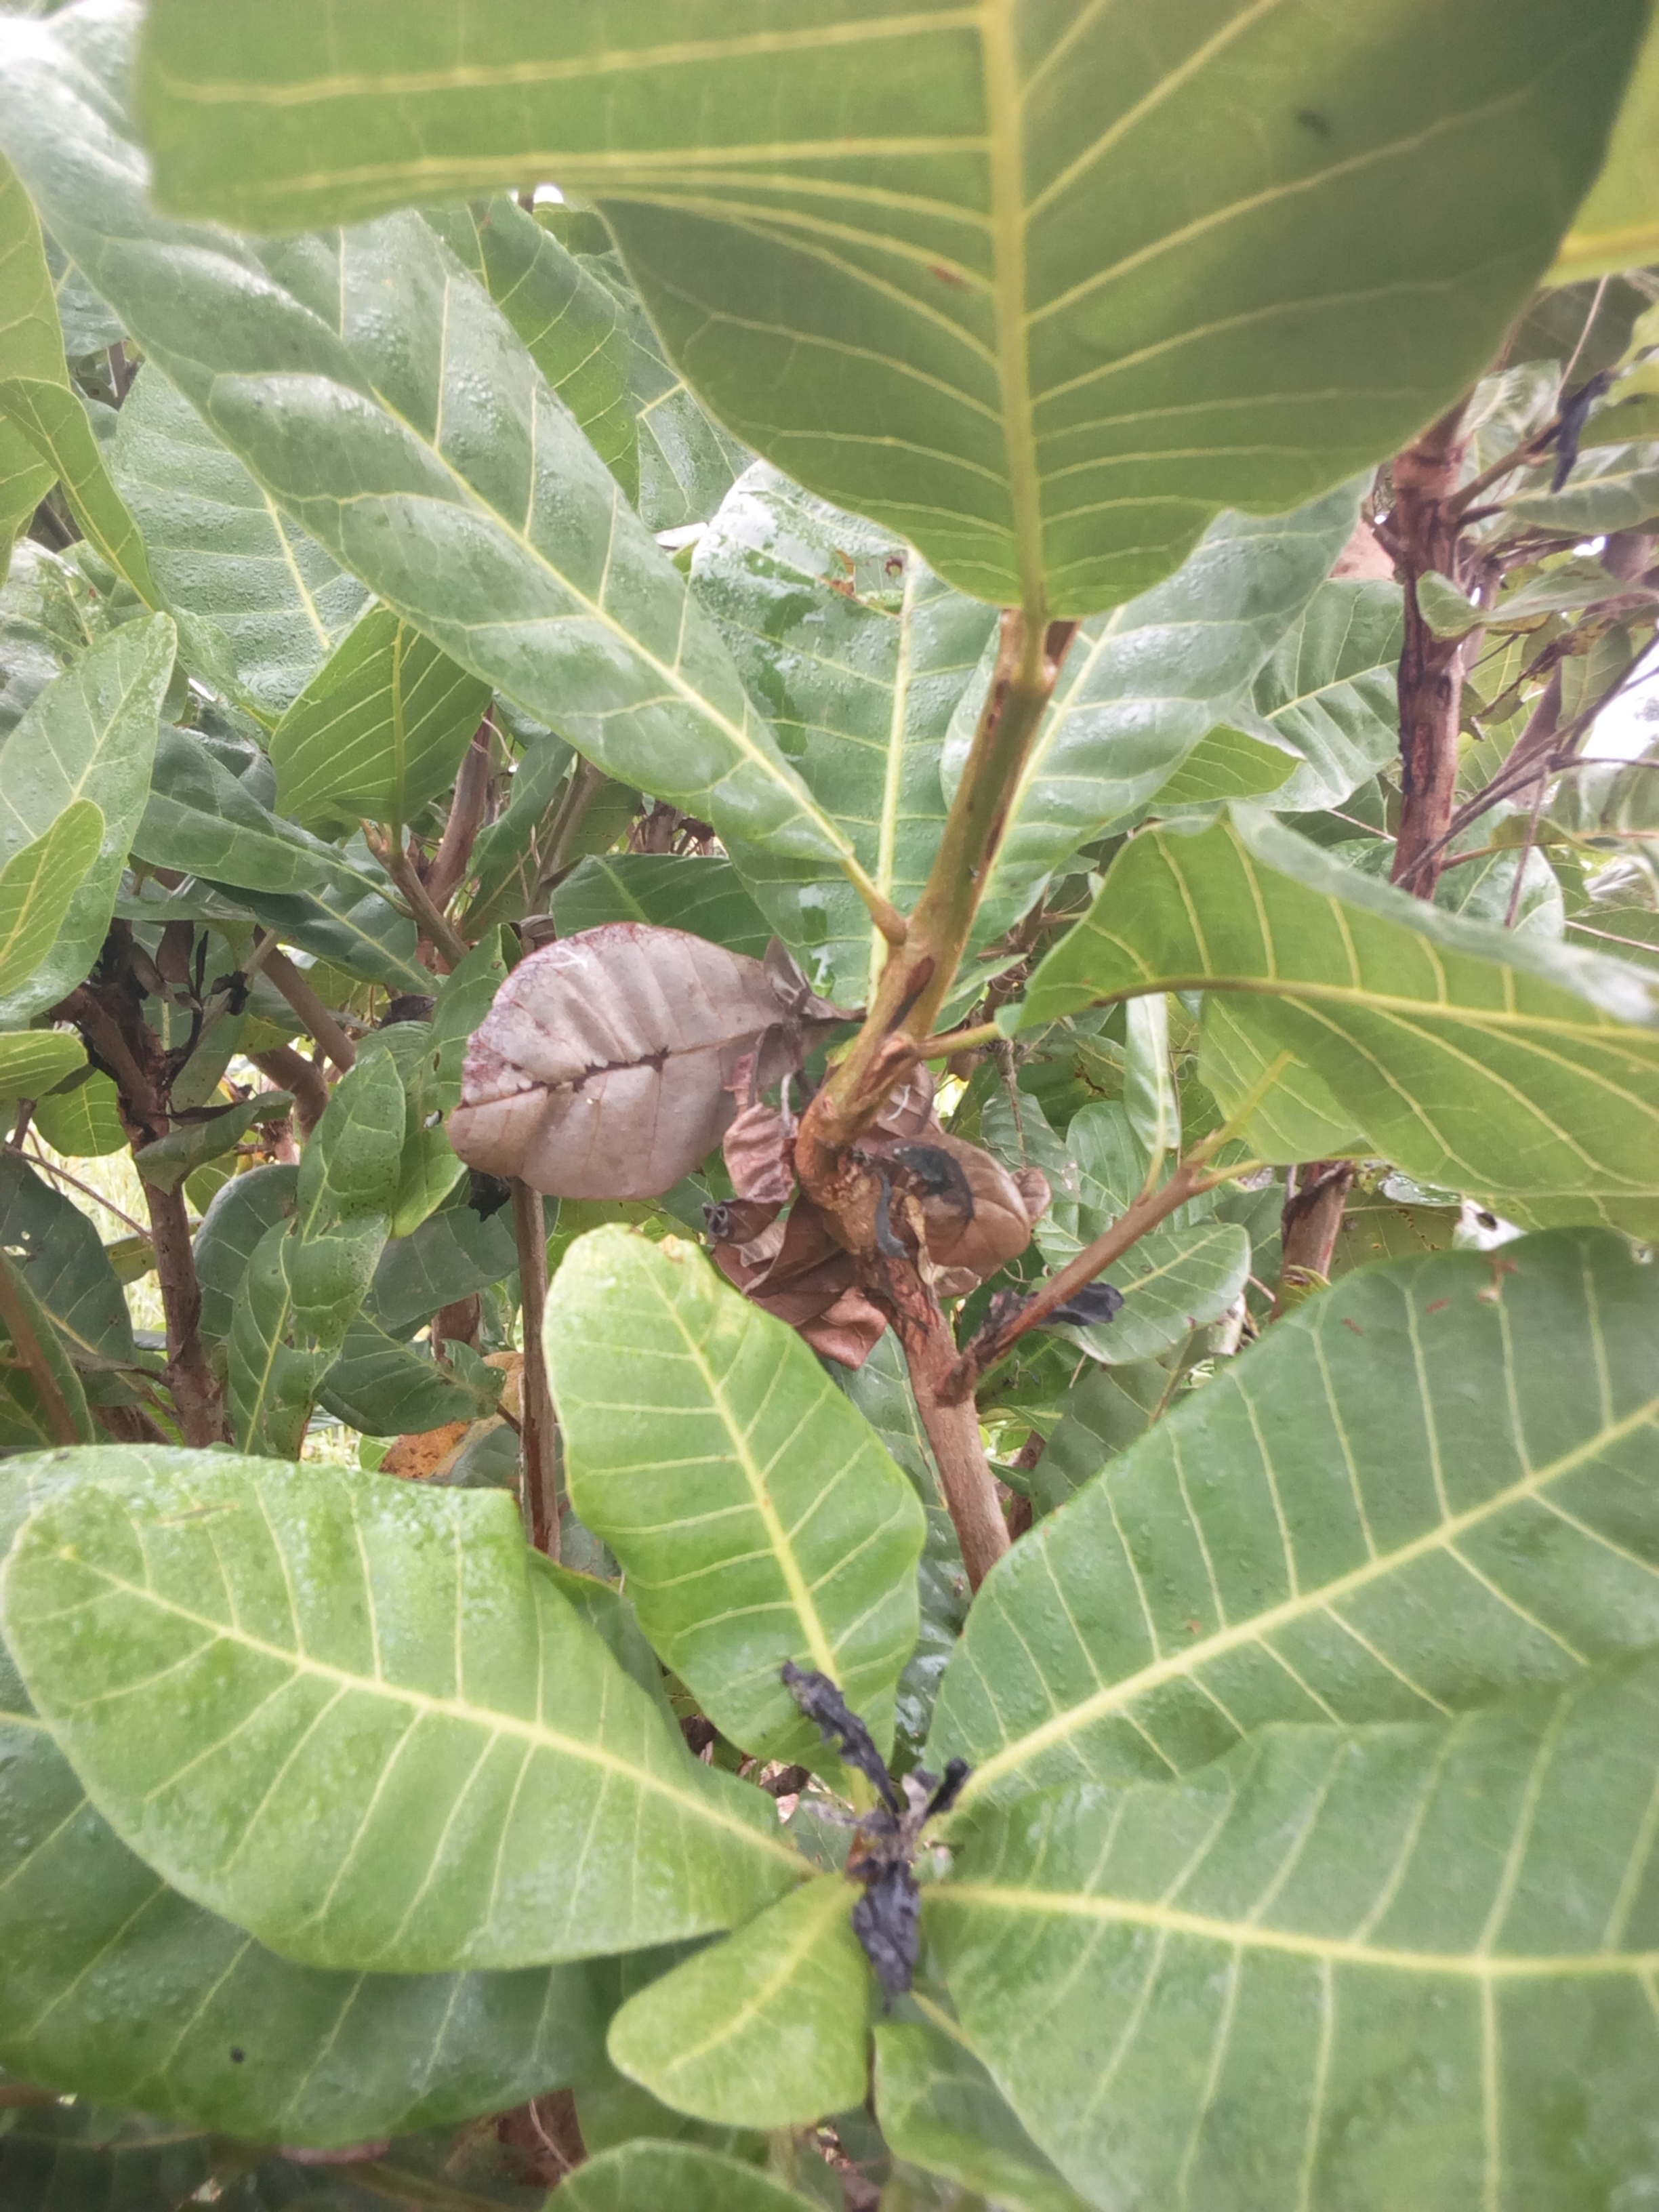Dessèchement des bourgeons: (744, 1073, 1042, 1313), (779, 1655, 965, 1994)
